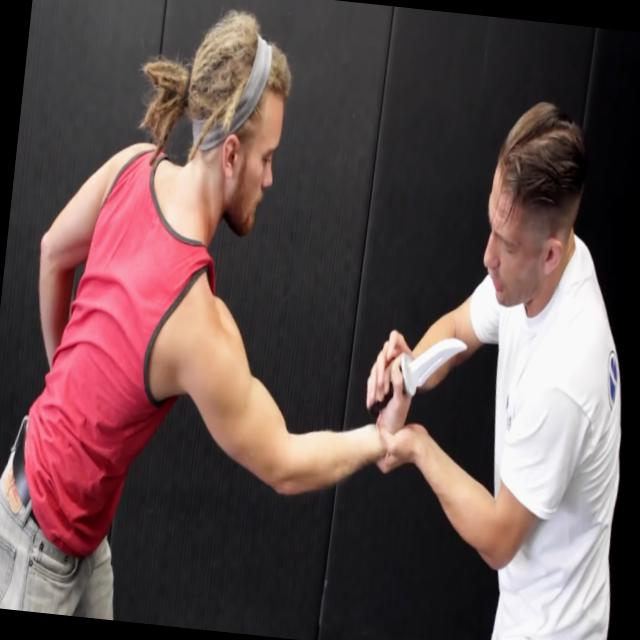knife: (360, 312, 474, 432)
